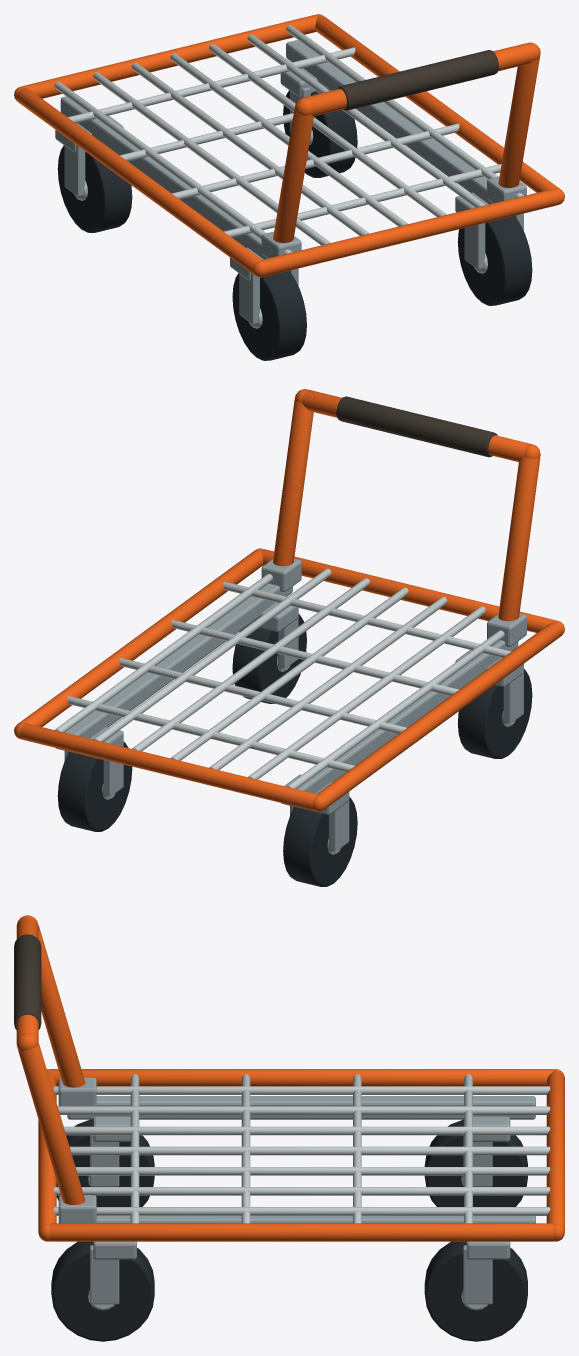
The model's file is rr_warehouse_flatbed.glb.
The picture shows the model from 3 angles, top to bottom: view 1: azimuth 30°, elevation 25°; view 2: azimuth 150°, elevation 25°; view 3: azimuth 270°, elevation 25°; orthographic projection. The views are drawn at different scales.
Visible parts, largest first — view 1: Rail_Rear, Rail_Left, Wheel_RL, Wheel_RR, Rail_Front, HandleGrip, ChassisRail_R, Rail_Right, Wheel_FL, ChassisRail_L, HandleUpright_L, HandleUpright_R (+19 smaller); view 2: Rail_Front, Rail_Left, Rail_Right, ChassisRail_R, Wheel_FL, HandleGrip, Wheel_FR, Wheel_RL, Rail_Rear, HandleUpright_L, ChassisRail_L, HandleUpright_R (+19 smaller); view 3: Rail_Right, Rail_Left, Wheel_FR, Wheel_RR, ChassisRail_L, DeckWire_03, DeckWire_04, DeckWire_02, DeckWire_05, DeckWire_06, DeckWire_01, DeckWire_07 (+23 smaller).
Part boxes in pixels (<box>): Rail_Rear: <box>261,189,558,276</box>; Rail_Left: <box>16,88,261,274</box>; Wheel_RL: <box>232,270,306,360</box>; Wheel_RR: <box>458,215,532,305</box>; Rail_Front: <box>23,15,317,98</box>; HandleGrip: <box>338,50,498,110</box>; ChassisRail_R: <box>286,40,492,204</box>; Rail_Right: <box>315,15,560,192</box>; Wheel_FL: <box>57,145,132,232</box>; ChassisRail_L: <box>60,96,267,259</box>; HandleUpright_L: <box>273,107,313,242</box>; HandleUpright_R: <box>498,55,540,187</box>; Rail_Front: <box>20,723,317,810</box>; Rail_Left: <box>317,622,562,808</box>; Rail_Right: <box>18,550,263,726</box>; ChassisRail_R: <box>65,583,292,738</box>; Wheel_FL: <box>283,797,357,886</box>; HandleGrip: <box>336,396,497,457</box>; Wheel_FR: <box>57,742,132,831</box>; Wheel_RL: <box>457,669,532,758</box>; Rail_Rear: <box>261,549,555,632</box>; HandleUpright_L: <box>498,457,540,621</box>; ChassisRail_L: <box>297,640,518,793</box>; HandleUpright_R: <box>273,400,313,566</box>; Rail_Right: <box>49,1223,553,1241</box>; Rail_Left: <box>49,1069,553,1086</box>; Wheel_FR: <box>424,1241,527,1341</box>; Wheel_RR: <box>51,1241,154,1341</box>; ChassisRail_L: <box>67,1096,535,1119</box>; DeckWire_03: <box>64,1126,550,1135</box>; DeckWire_04: <box>69,1146,550,1155</box>; DeckWire_02: <box>57,1106,550,1114</box>; DeckWire_05: <box>53,1167,550,1175</box>; DeckWire_06: <box>53,1187,550,1195</box>; DeckWire_01: <box>53,1086,550,1094</box>; DeckWire_07: <box>53,1207,550,1215</box>.
Bounding box in the file's own units: 4.83 × 4.22 × 6.94.
